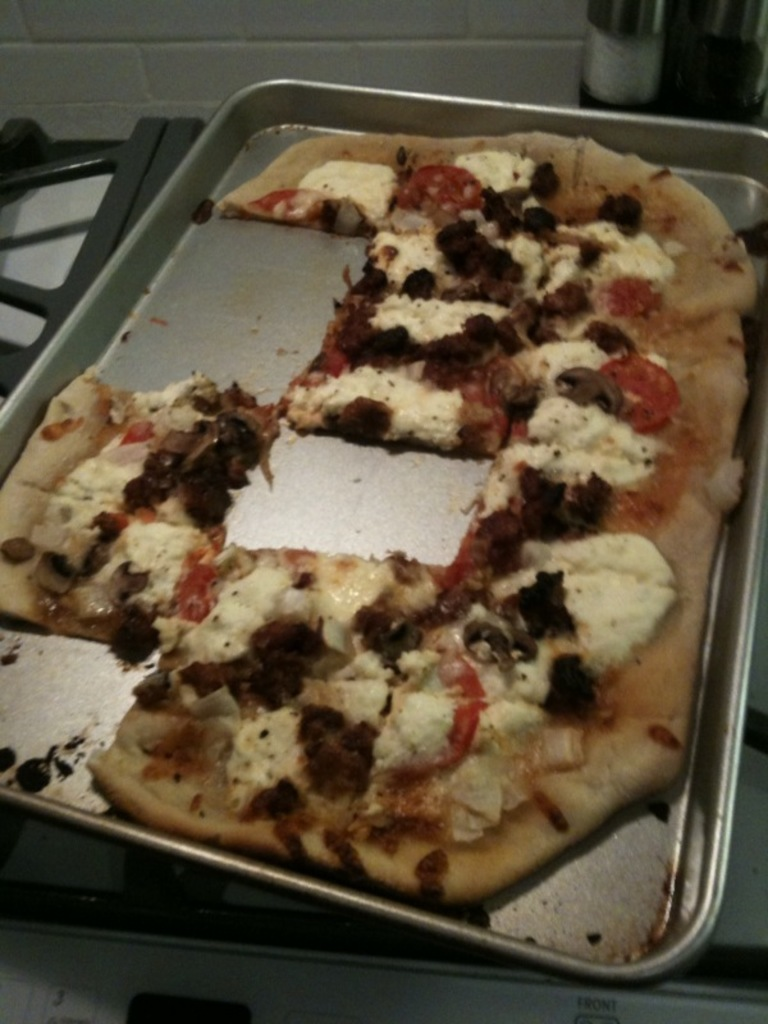Pizza: (48, 119, 759, 921)
